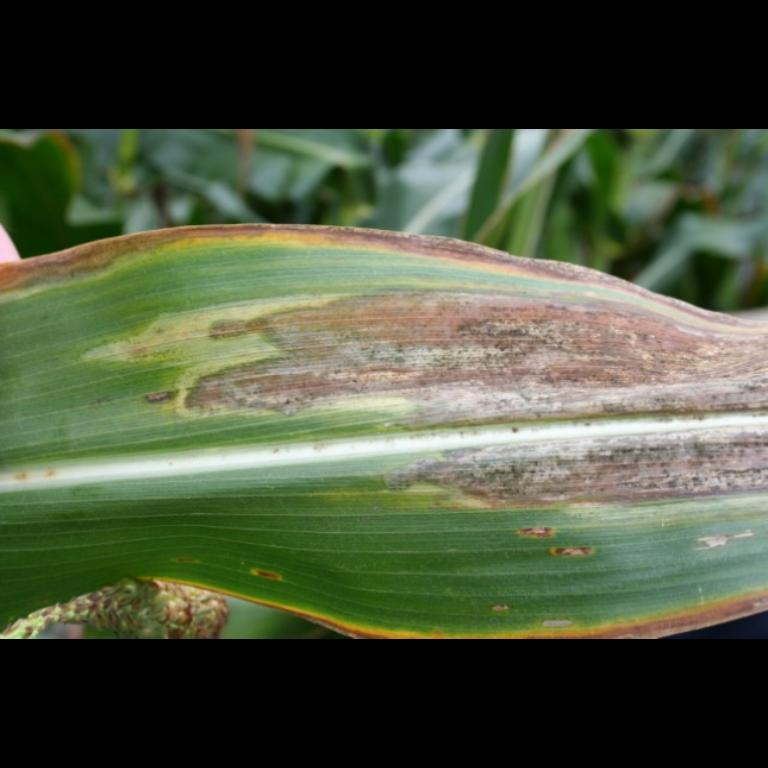blight: (184, 279, 636, 433), (421, 438, 764, 532)
